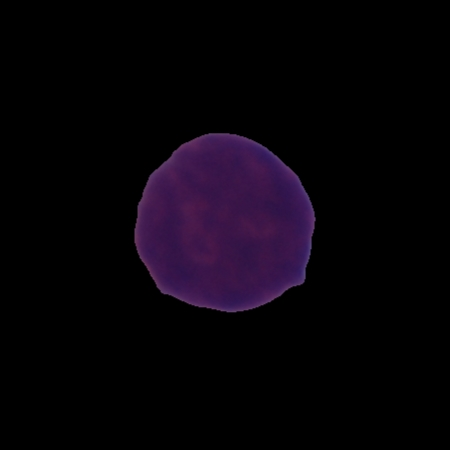ALL: (130, 129, 319, 315)
